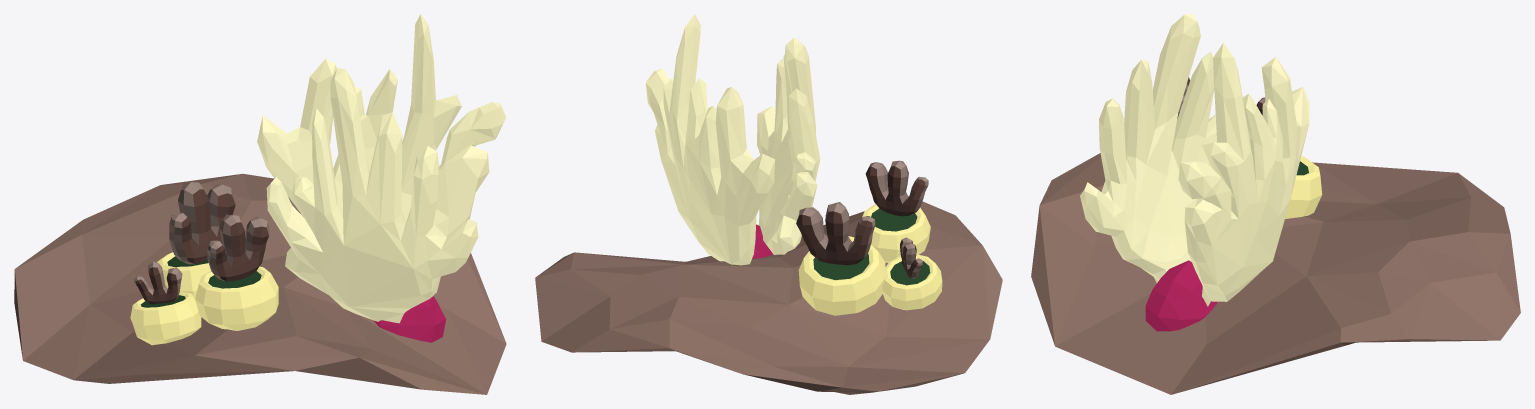
File: Coralls_013.glb
The picture shows the model from 3 angles, left to right: view 1: azimuth 30°, elevation 25°; view 2: azimuth 150°, elevation 25°; view 3: azimuth 270°, elevation 25°; orthographic projection. The views are drawn at different scales.
Parts seen in each view (by area): view 1: Coralls_013; view 2: Coralls_013; view 3: Coralls_013.
Boxes of the visible parts, x1,y1,x2,y2 form: Coralls_013: [14, 14, 506, 394]; Coralls_013: [535, 14, 1002, 394]; Coralls_013: [1031, 14, 1520, 394].
Bounding box in the file's own units: 2.08 × 1.5 × 2.
2 materials, 2 textured.
